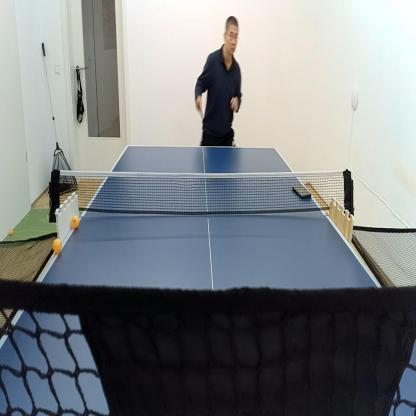Ball: (392, 161, 414, 193), (52, 238, 62, 256), (72, 215, 80, 229), (8, 228, 13, 235)
